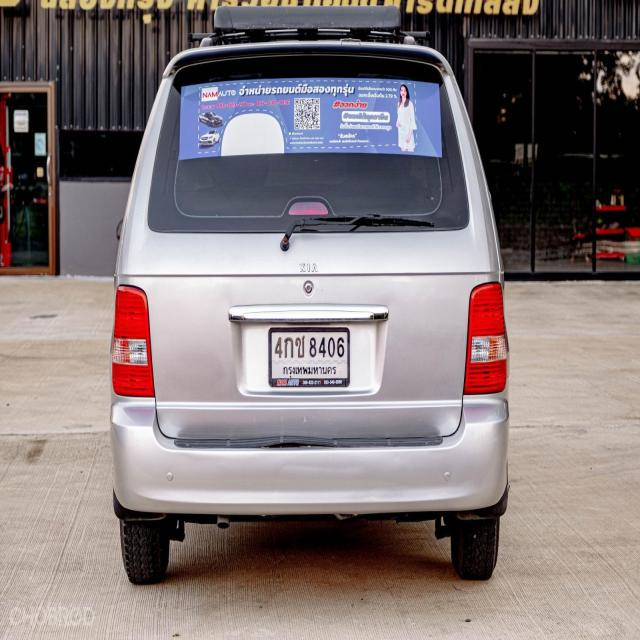license_plate: (268, 326, 350, 391)
